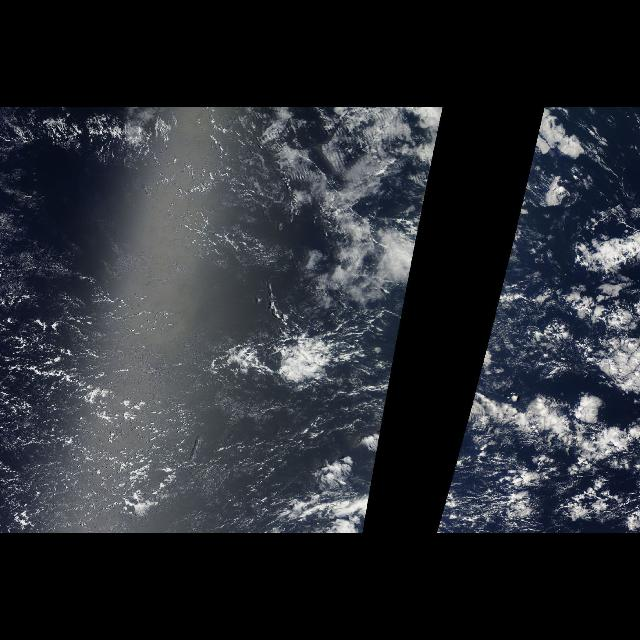Flower: (494, 135, 640, 533)
Gravel: (1, 211, 376, 533)
Sugar: (213, 112, 432, 215)
